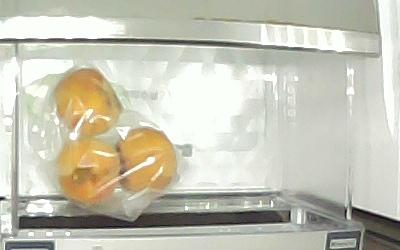peach_vinyl: (52, 68, 122, 137), (57, 139, 121, 206), (120, 126, 177, 196)
